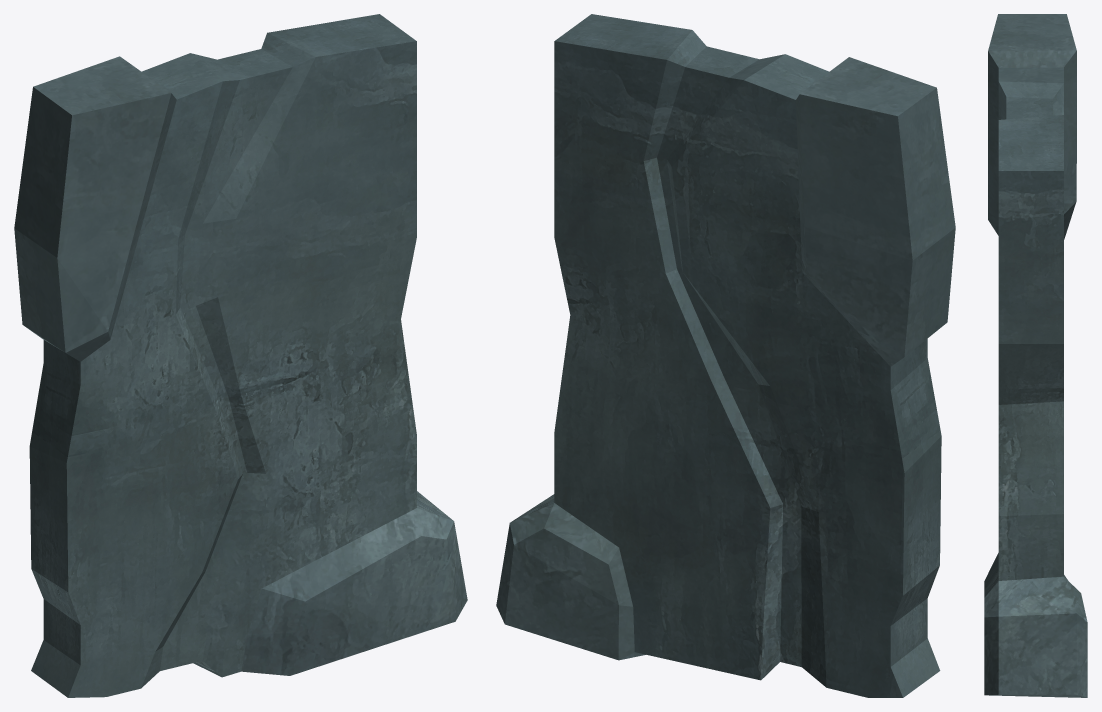
File: RockWall_6.fbx
3 renders of one model, left to right at view 1: azimuth 30°, elevation 25°; view 2: azimuth 150°, elevation 25°; view 3: azimuth 270°, elevation 25°, orthographic. The views are drawn at different scales.
Visible parts, largest first — view 1: pCube2; view 2: pCube2; view 3: pCube2.
Boxes of the visible parts, <box> form: pCube2: <box>14,14,467,697</box>; pCube2: <box>496,14,955,697</box>; pCube2: <box>984,14,1087,697</box>.
Size of the model in its own units: 10.08 by 14.28 by 2.48.
